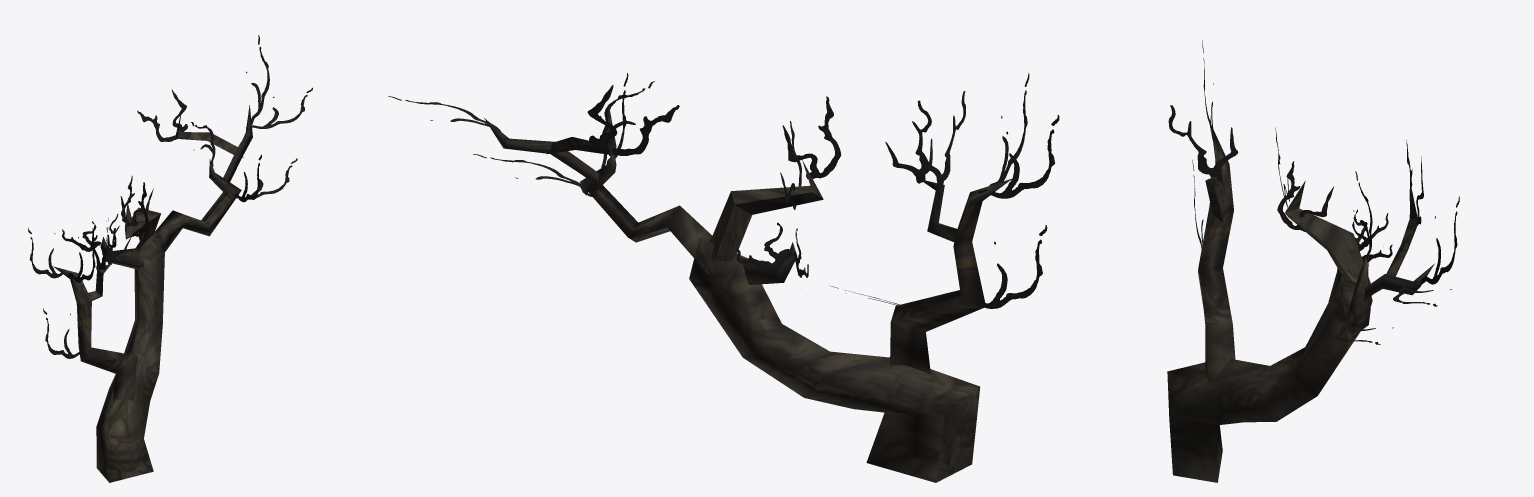
Rendered from huoguankushu02.FBX.
3 views of the same model, side by side, from view 1: azimuth 30°, elevation 25°; view 2: azimuth 150°, elevation 25°; view 3: azimuth 270°, elevation 25° (orthographic). The views are drawn at different scales.
Visible parts, largest first — view 1: huoguankushu02; view 2: huoguankushu02; view 3: huoguankushu02.
Boxes of the visible parts, <box> form: huoguankushu02: <box>28,35,312,482</box>; huoguankushu02: <box>388,73,1059,482</box>; huoguankushu02: <box>1167,40,1459,482</box>.
Size of the model in its own units: 1129 by 722 by 862.
